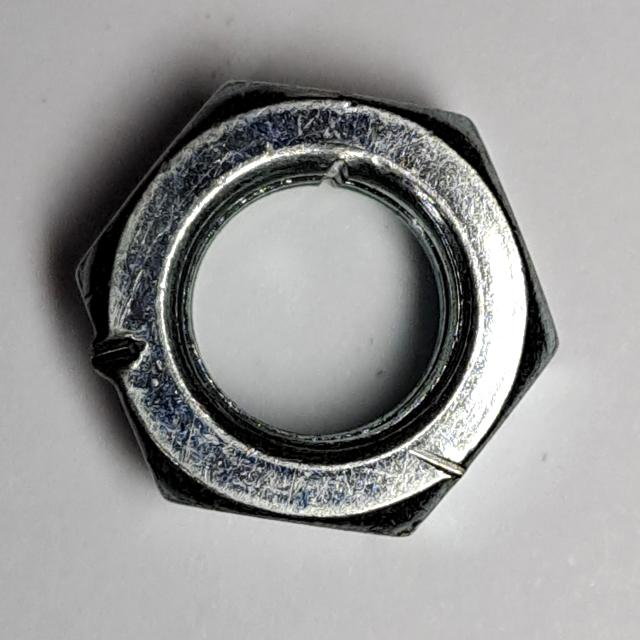Scratches: (66, 68, 567, 550)
